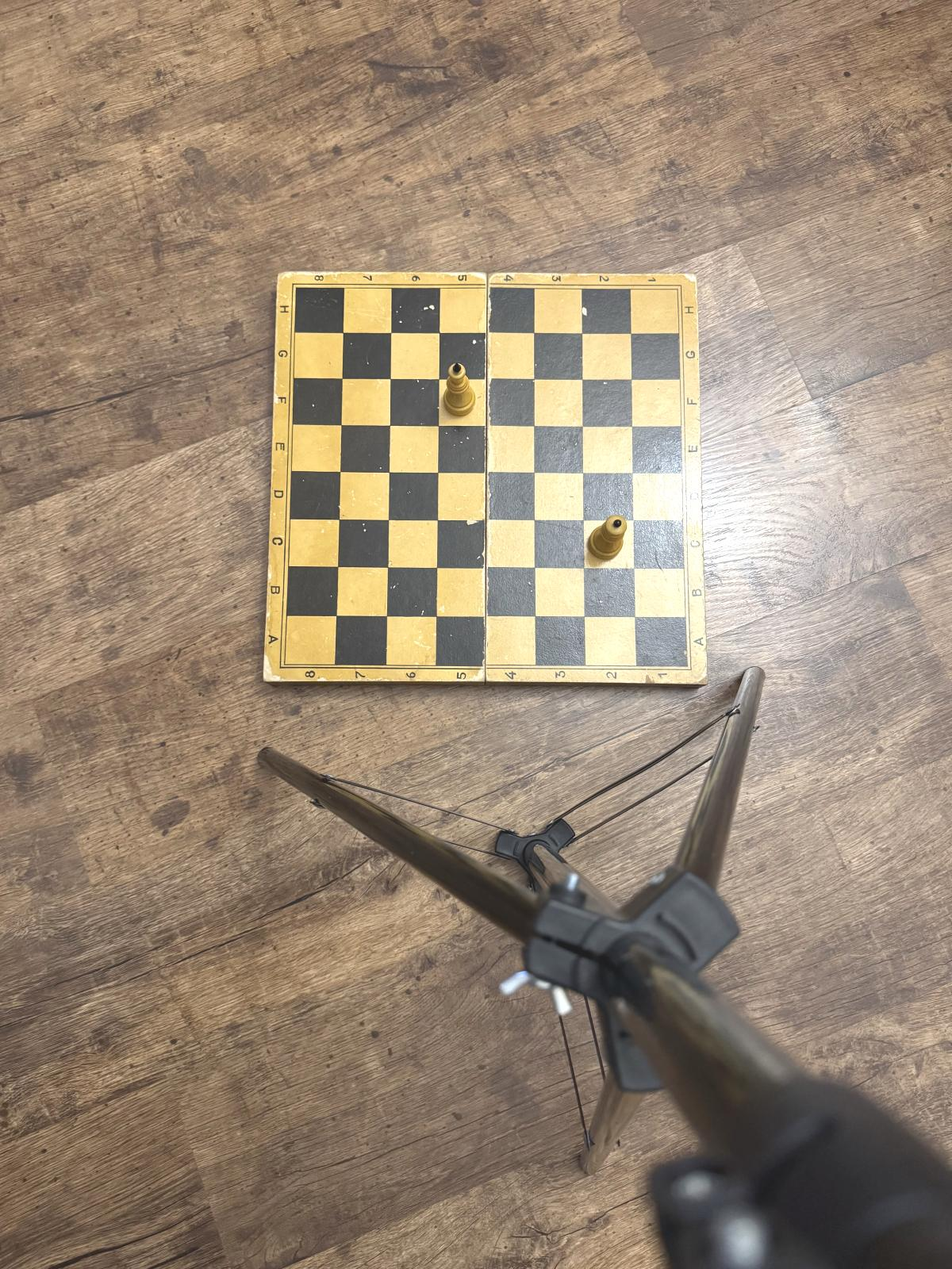Chess-Board: (284, 288, 687, 666)
